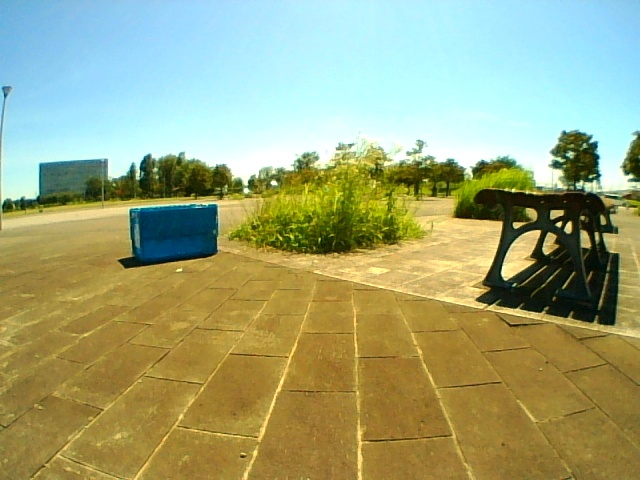blue_box: (131, 207, 218, 259)
tag: (134, 222, 140, 247)
